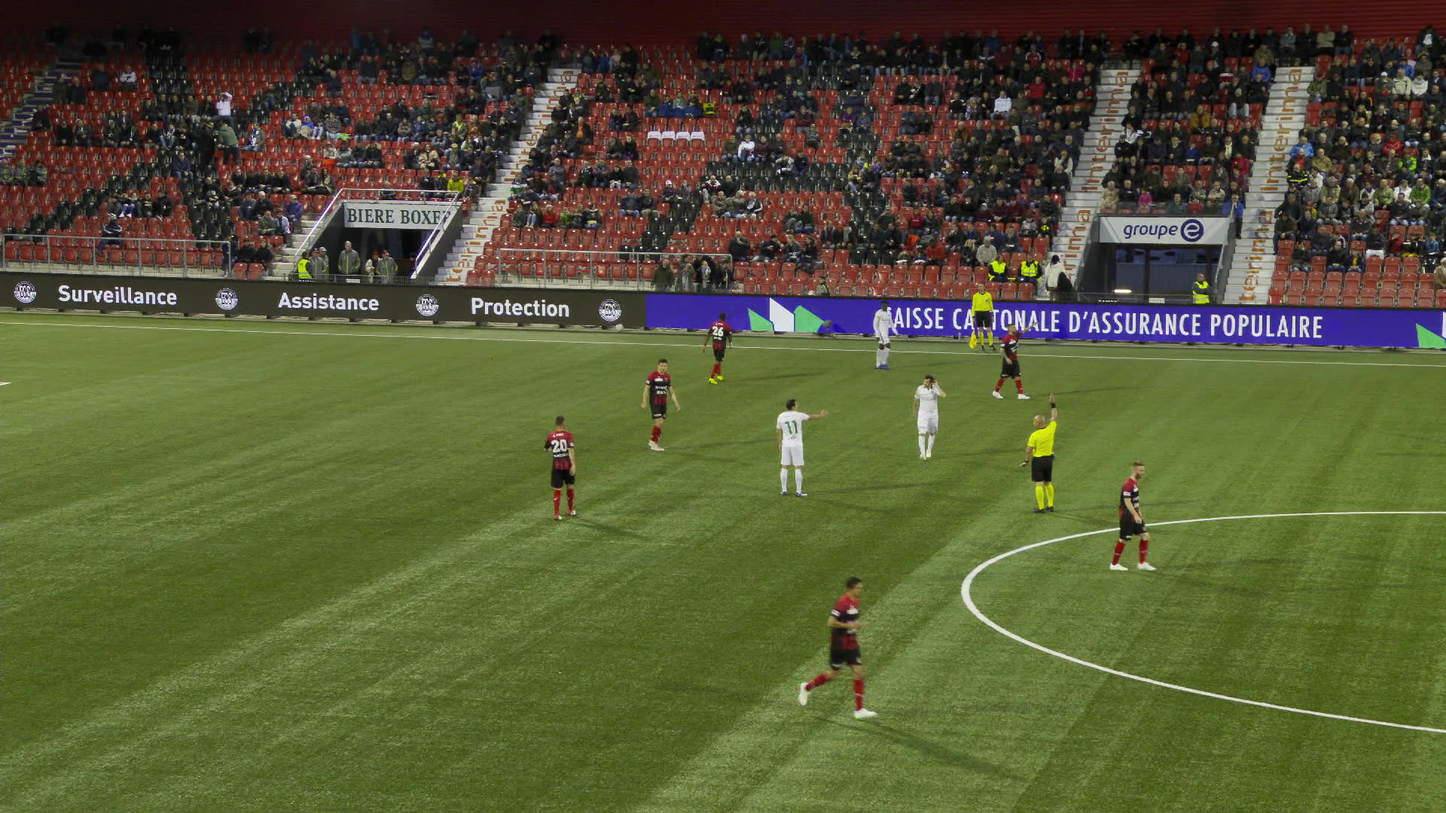ball: (616, 323, 622, 330)
player: (799, 580, 868, 720), (1108, 461, 1155, 571), (775, 399, 826, 496), (640, 359, 678, 451), (992, 321, 1037, 398), (545, 414, 578, 519), (911, 374, 945, 460), (869, 301, 899, 369), (703, 312, 731, 384)
referee: (1020, 394, 1057, 513), (971, 282, 994, 350)
